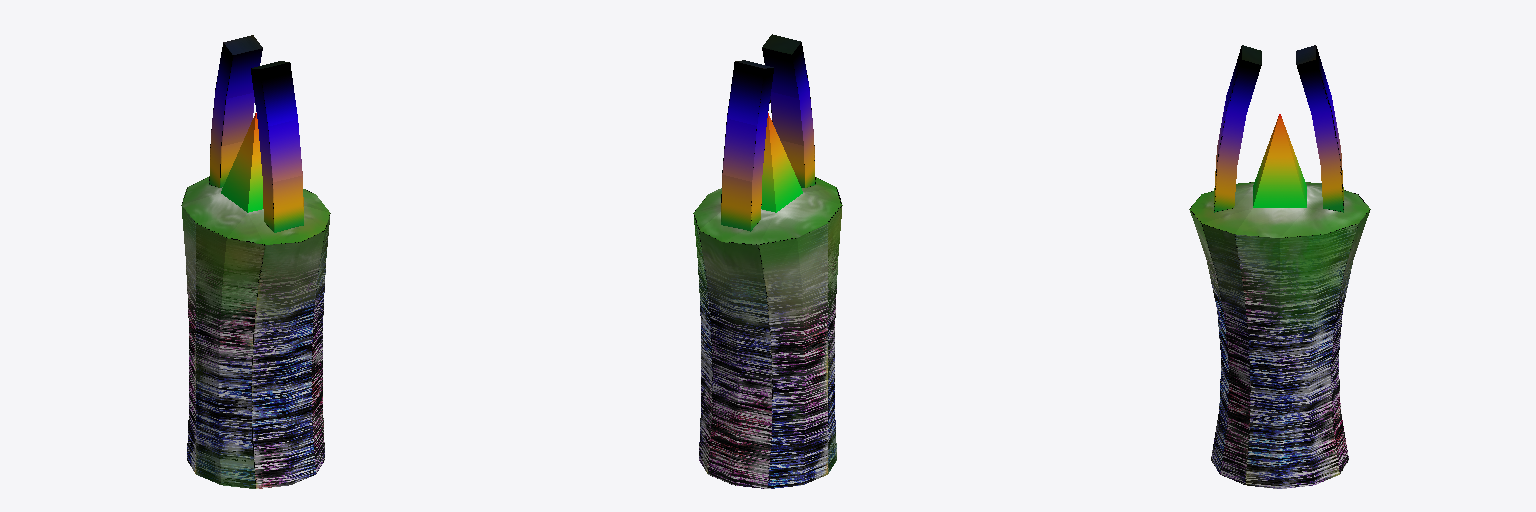
3 renders of one model, left to right at view 1: azimuth 30°, elevation 25°; view 2: azimuth 150°, elevation 25°; view 3: azimuth 270°, elevation 25°, orthographic.
Parts seen in each view (by area): view 1: Cylinder001; view 2: Cylinder001; view 3: Cylinder001.
Part boxes in pixels (left/top/right/bottom): Cylinder001: left=181, top=35, right=330, bottom=488; Cylinder001: left=693, top=34, right=842, bottom=488; Cylinder001: left=1189, top=45, right=1370, bottom=488.
Bounding box in the file's own units: 2 × 6.5 × 2.62.
Materials: 1 (1 with a texture image).